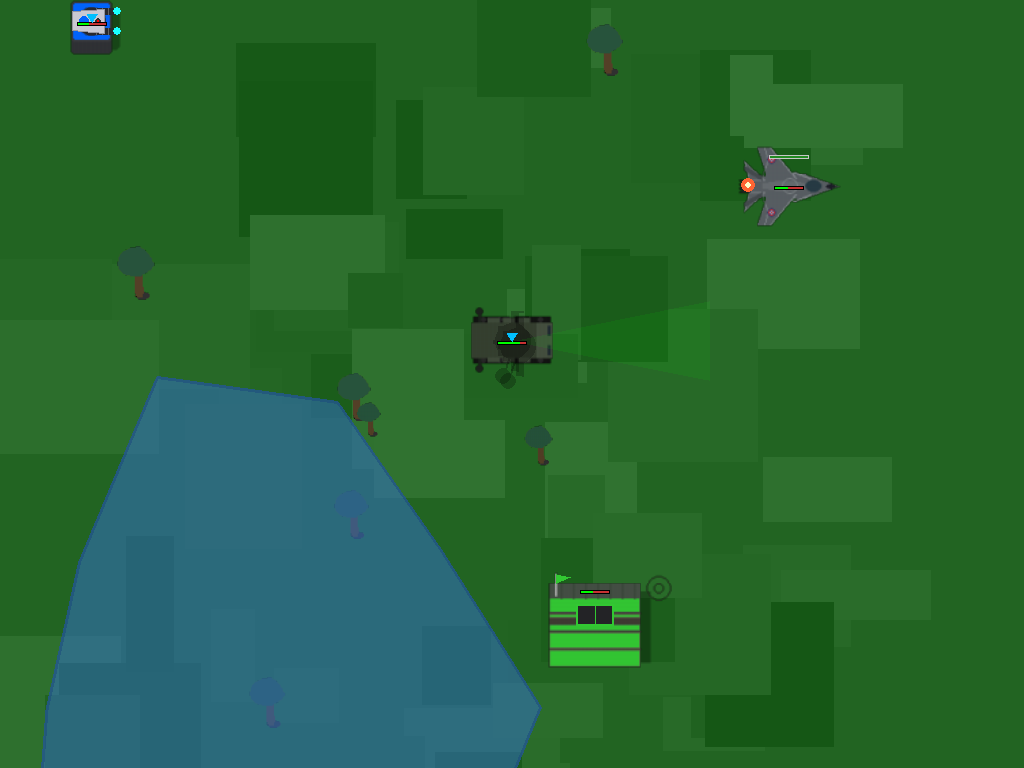AntiAirTurret: (60, 0, 122, 62)
Barracks: (538, 532, 650, 644)
FighterJet_usa: (762, 158, 804, 210)
Lake: (33, 377, 540, 768)
RadarBuilding: (466, 294, 558, 386)
